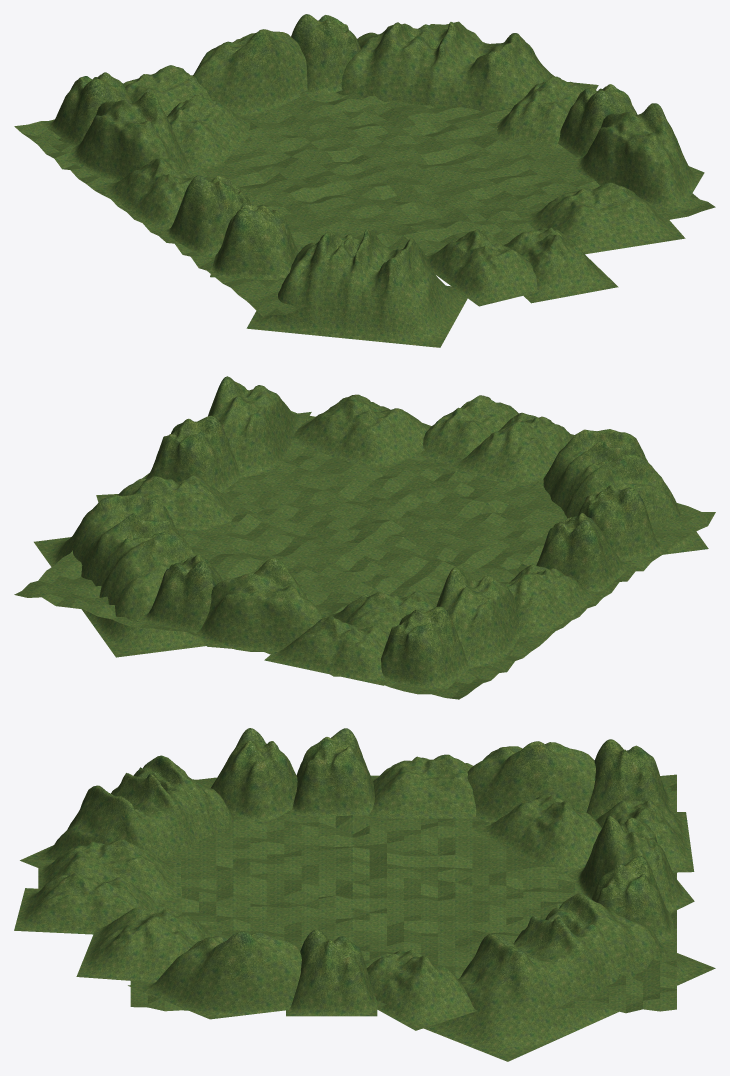
File: Terreno_Pasado.glb
3 renders of one model, top to bottom at view 1: azimuth 30°, elevation 25°; view 2: azimuth 150°, elevation 25°; view 3: azimuth 270°, elevation 25°, orthographic. The views are drawn at different scales.
Visible parts, largest first — view 1: Plane.002, Retopo_Landscape.047, Retopo_Landscape.054, Retopo_Landscape.037, Retopo_Landscape.050, Retopo_Landscape.045, Retopo_Landscape.051, Retopo_Landscape.041, Retopo_Landscape.053, Retopo_Landscape.038, Retopo_Landscape.052, Retopo_Landscape.043 (+7 smaller); view 2: Plane.002, Retopo_Landscape.047, Retopo_Landscape.045, Retopo_Landscape.051, Retopo_Landscape.050, Retopo_Landscape.041, Retopo_Landscape.042, Retopo_Landscape.037, Retopo_Landscape.053, Retopo_Landscape.044, Retopo_Landscape.048, Retopo_Landscape.039 (+7 smaller); view 3: Plane.002, Retopo_Landscape.047, Retopo_Landscape.050, Retopo_Landscape.037, Retopo_Landscape.041, Retopo_Landscape.051, Retopo_Landscape.043, Retopo_Landscape.052, Retopo_Landscape.040, Retopo_Landscape.048, Retopo_Landscape.049, Retopo_Landscape.039 (+7 smaller).
Boxes of the visible parts, x1,y1,x2,y2 form: Plane.002: [14, 21, 715, 316]; Retopo_Landscape.047: [336, 22, 598, 111]; Retopo_Landscape.054: [246, 234, 467, 347]; Retopo_Landscape.037: [250, 229, 466, 343]; Retopo_Landscape.050: [571, 103, 704, 216]; Retopo_Landscape.045: [193, 29, 307, 117]; Retopo_Landscape.051: [519, 182, 685, 254]; Retopo_Landscape.041: [66, 91, 193, 181]; Retopo_Landscape.053: [425, 229, 540, 306]; Retopo_Landscape.038: [210, 205, 304, 280]; Retopo_Landscape.052: [504, 227, 618, 303]; Retopo_Landscape.043: [167, 95, 264, 172]; Plane.002: [14, 411, 715, 699]; Retopo_Landscape.047: [34, 493, 205, 657]; Retopo_Landscape.045: [196, 558, 322, 652]; Retopo_Landscape.051: [292, 394, 431, 472]; Retopo_Landscape.050: [208, 376, 311, 476]; Retopo_Landscape.041: [436, 567, 520, 667]; Retopo_Landscape.042: [381, 606, 470, 692]; Retopo_Landscape.037: [543, 429, 694, 553]; Retopo_Landscape.053: [445, 412, 574, 488]; Retopo_Landscape.044: [264, 615, 389, 685]; Retopo_Landscape.048: [142, 415, 242, 492]; Retopo_Landscape.039: [536, 513, 635, 592]; Plane.002: [130, 774, 676, 1013]; Retopo_Landscape.047: [424, 893, 715, 1061]; Retopo_Landscape.050: [128, 931, 301, 1019]; Retopo_Landscape.037: [36, 755, 234, 860]; Retopo_Landscape.041: [467, 741, 595, 822]; Retopo_Landscape.051: [76, 907, 224, 982]; Retopo_Landscape.043: [471, 795, 601, 876]; Retopo_Landscape.052: [14, 873, 161, 934]; Retopo_Landscape.040: [363, 754, 477, 818]; Retopo_Landscape.048: [286, 929, 377, 1016]; Retopo_Landscape.049: [366, 949, 477, 1030]; Retopo_Landscape.039: [290, 728, 374, 817].
Bounding box in the file's own units: 462 × 76.71 × 514.
Materials: 19 (19 with a texture image).
